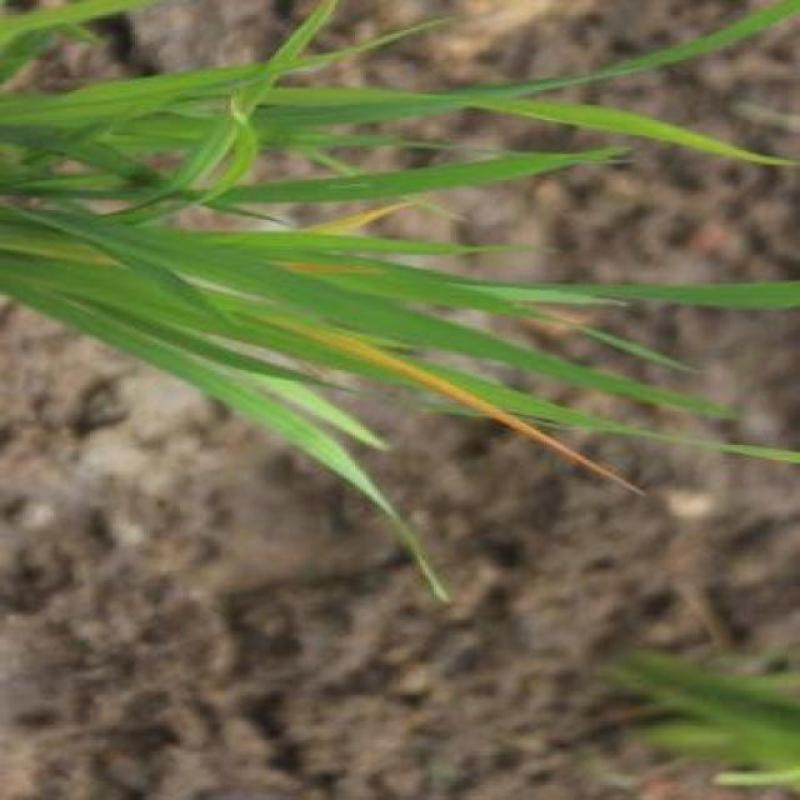Rice Tungro: (360, 338, 646, 493), (332, 198, 427, 232)
